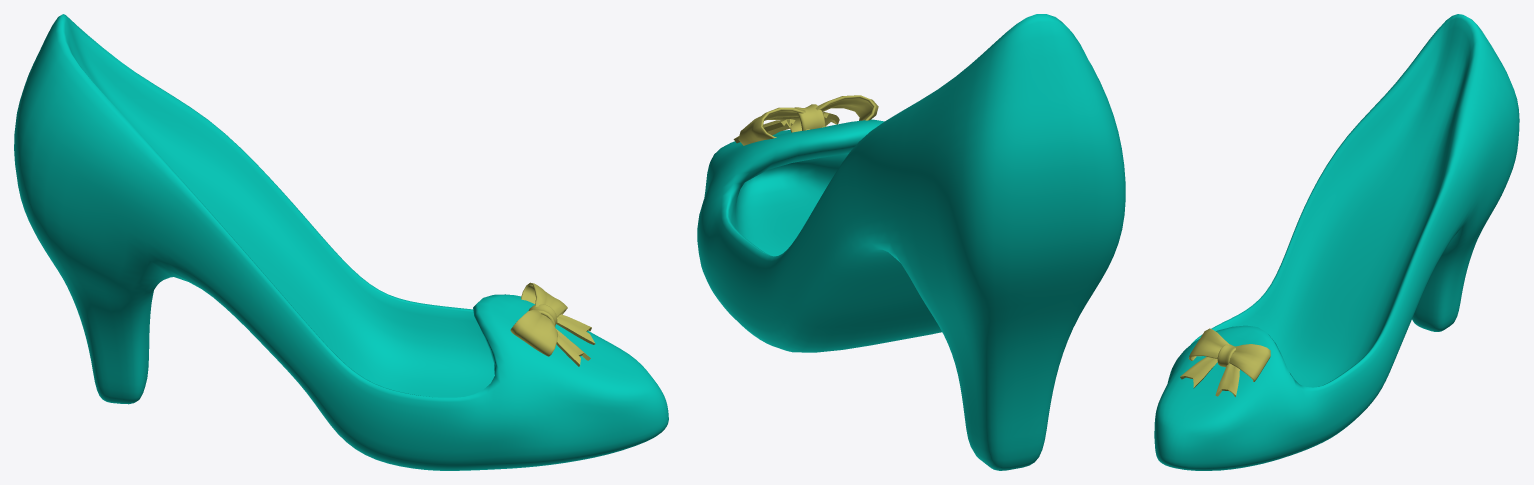
The model's file is RibbonHeel3.fbx.
The picture shows the model from 3 angles, left to right: view 1: azimuth 30°, elevation 25°; view 2: azimuth 150°, elevation 25°; view 3: azimuth 270°, elevation 25°; orthographic projection. The views are drawn at different scales.
Visible parts, largest first — view 1: HeelRight1, RibbonCombined1; view 2: HeelRight1, RibbonCombined1; view 3: HeelRight1, RibbonCombined1.
Boxes of the visible parts, x1,y1,x2,y2 form: HeelRight1: (14,14,668,470); RibbonCombined1: (510,282,595,366); HeelRight1: (697,14,1125,470); RibbonCombined1: (733,95,878,145); HeelRight1: (1154,14,1519,470); RibbonCombined1: (1180,328,1270,396).
Bounding box in the file's own units: 3.03 × 2.41 × 2.57.
